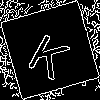K: (25, 25, 77, 81)
